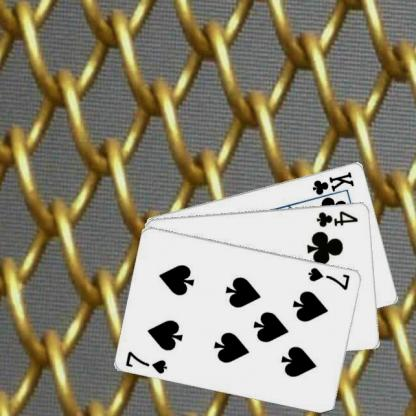4C: (314, 207, 360, 228)
7S: (306, 264, 352, 291), (123, 348, 169, 374)
KC: (308, 168, 356, 202)
